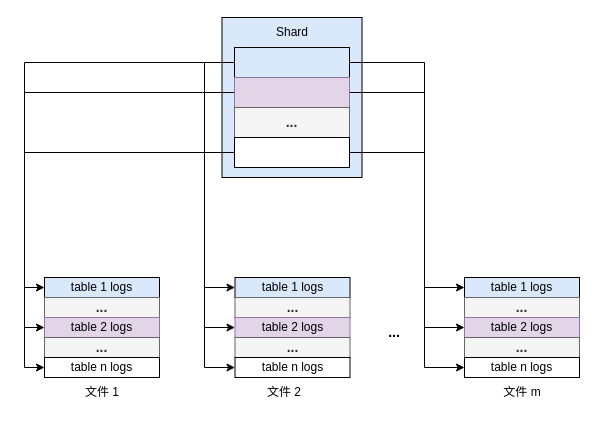
This 597x425 diagram has some shape labels left out. Here are the shapes that lost their labels. From the top down, the centre of each, then its label:
At (x=292, y=62): "table 1".
At (x=292, y=92): "table 2".
At (x=292, y=152): "table n".
